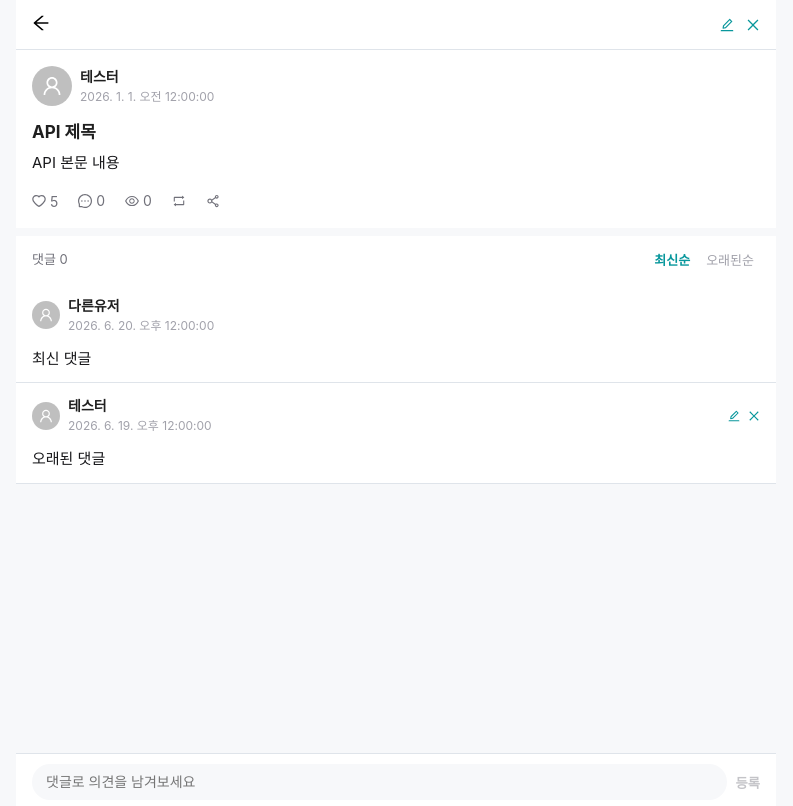
CommunityDetailPage › 편집 내용을 비우면 저장 버튼이 비활성화된다
Expected: the text "오래된 댓글" is shown, [32,449,105,468]
Click the button named "댓글 수정". click: (734, 416)
box: [728,410,740,422]
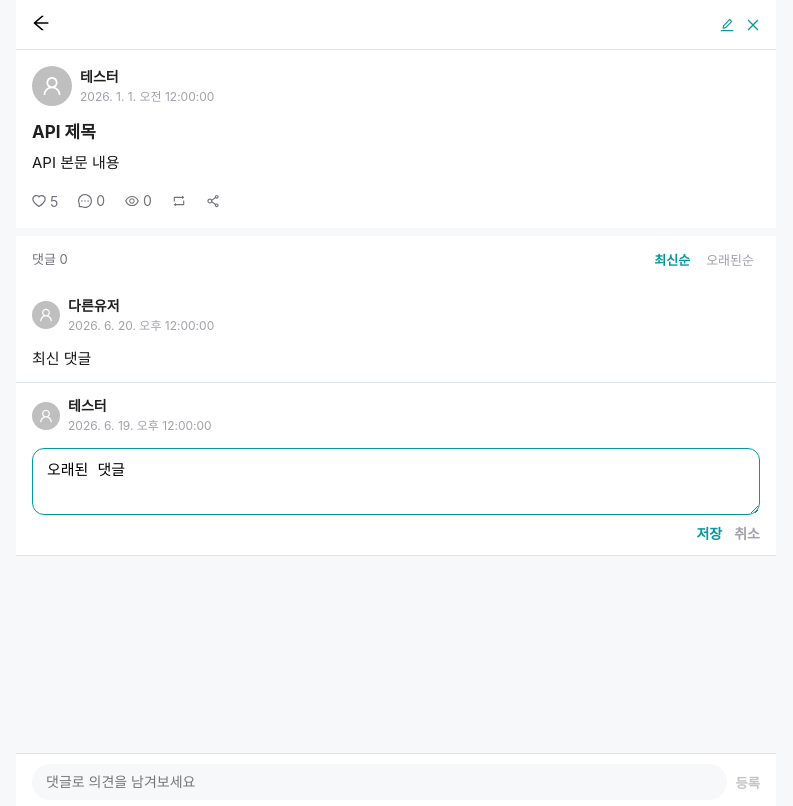
Clear the text box named "댓글 수정 입력". click: (396, 482)
box: [32,448,760,515]
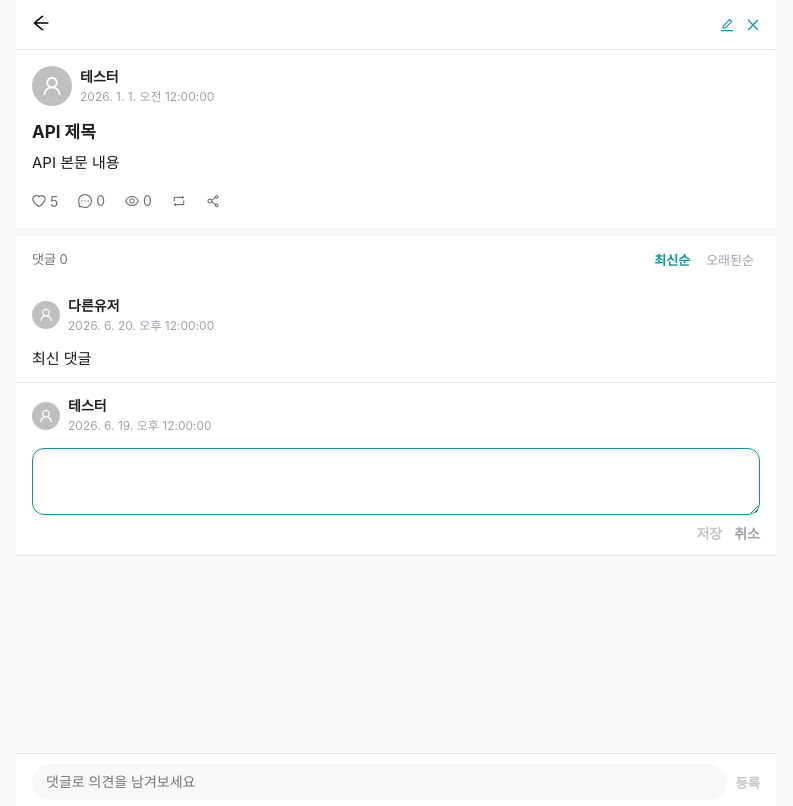
Now the button "저장" is disabled, box [696,523,722,543]
